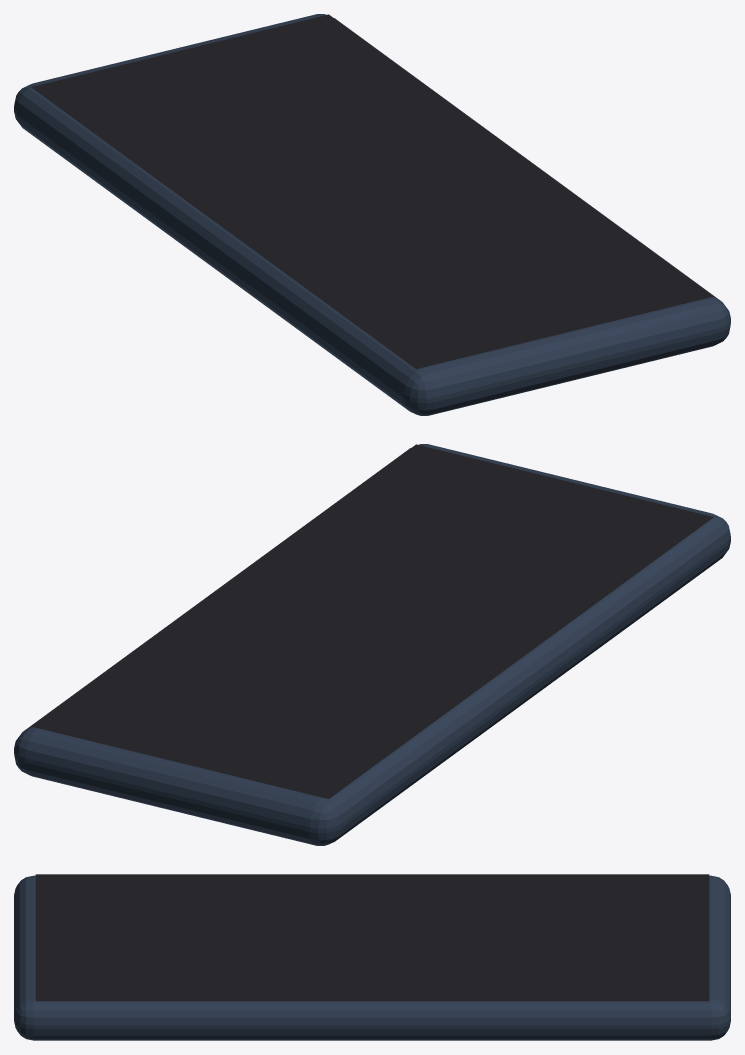
Rendered from google-pixel-a-model-394-budget-2026.glb.
The picture shows the model from 3 angles, top to bottom: view 1: azimuth 30°, elevation 25°; view 2: azimuth 150°, elevation 25°; view 3: azimuth 270°, elevation 25°; orthographic projection. The views are drawn at different scales.
Visible parts, largest first — view 1: Phone_Screen, Phone_Body; view 2: Phone_Screen, Phone_Body; view 3: Phone_Screen, Phone_Body.
Part boxes in pixels (x1,y1,x2,y2): Phone_Screen: (31,14,713,368); Phone_Body: (14,14,730,415); Phone_Screen: (31,444,713,798); Phone_Body: (14,444,730,845); Phone_Screen: (35,874,709,1001); Phone_Body: (14,875,730,1040).
Size of the model in its own units: 0.0738 by 0.01 by 0.1618.
